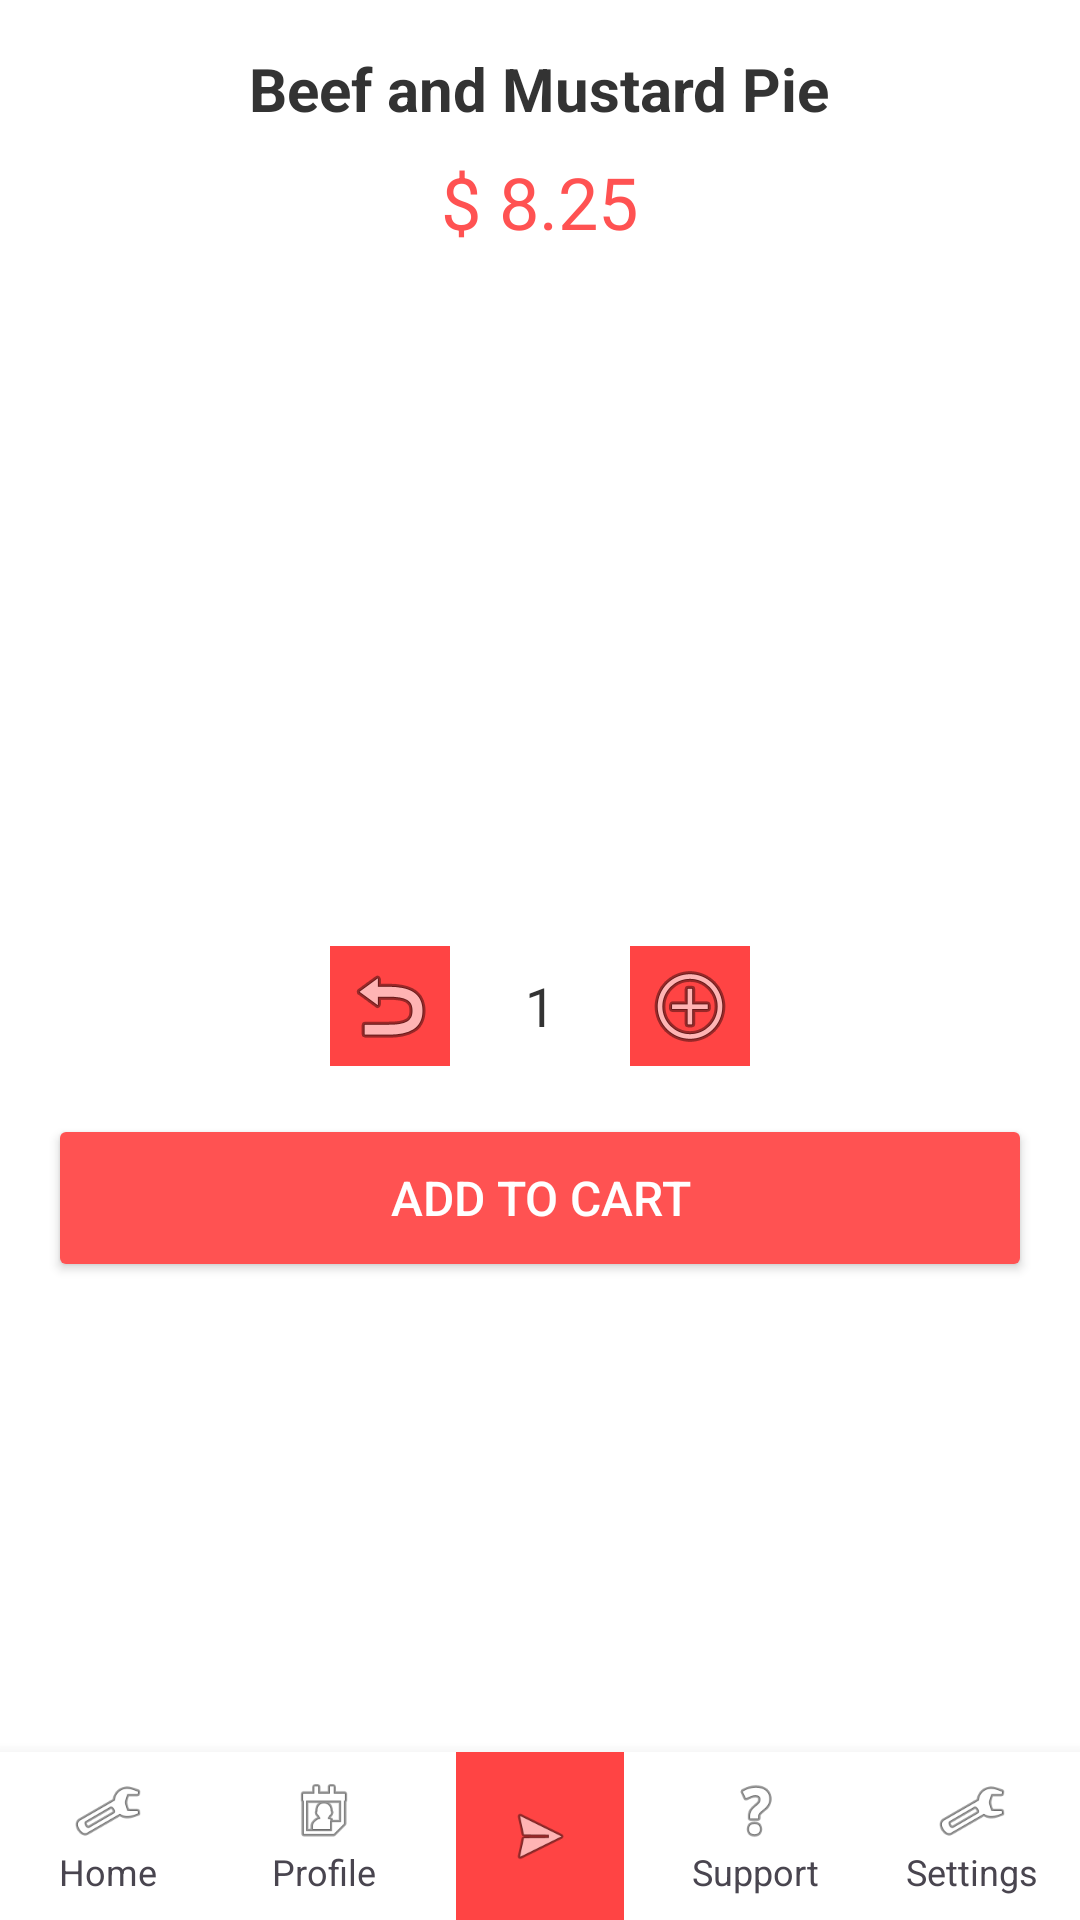

Named icons in this screenshot (1080×1920) and their bounding boxes, (x1,y1,x2,y2):
calendar: (301,1784,347,1837)
Plus: (630,946,750,1066)
